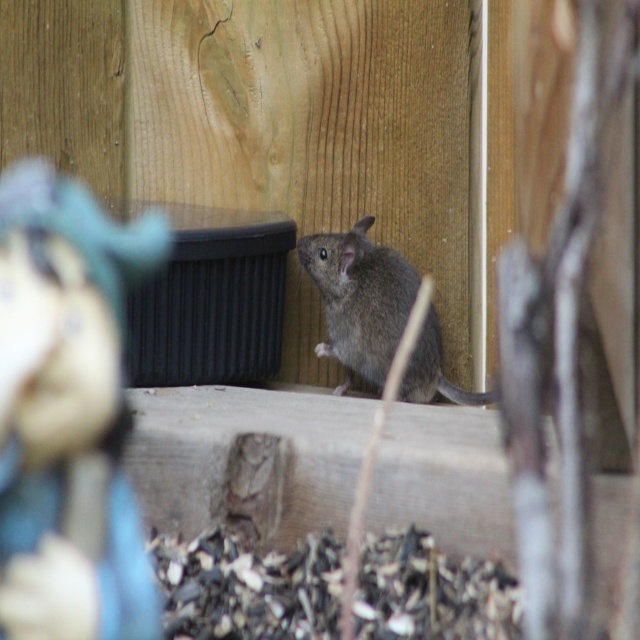Mouse: (286, 215, 502, 407)
